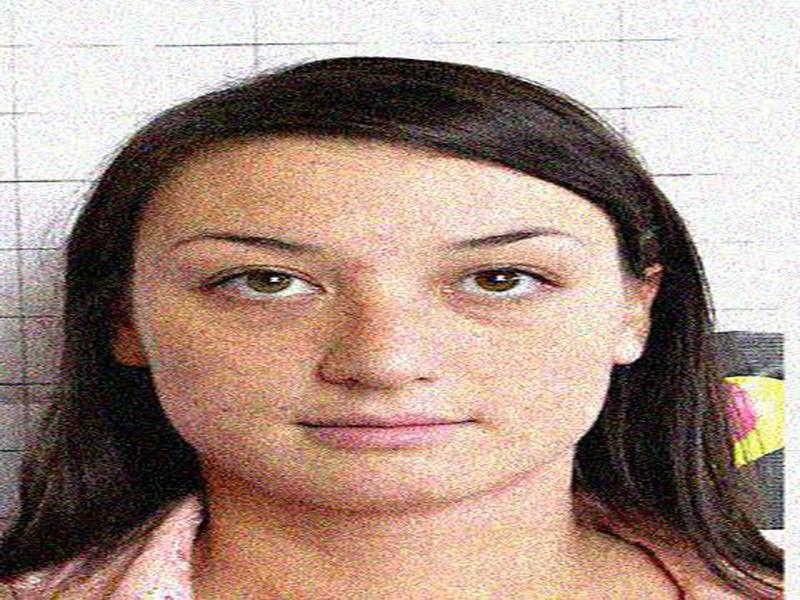without_mask: (136, 182, 621, 512)
